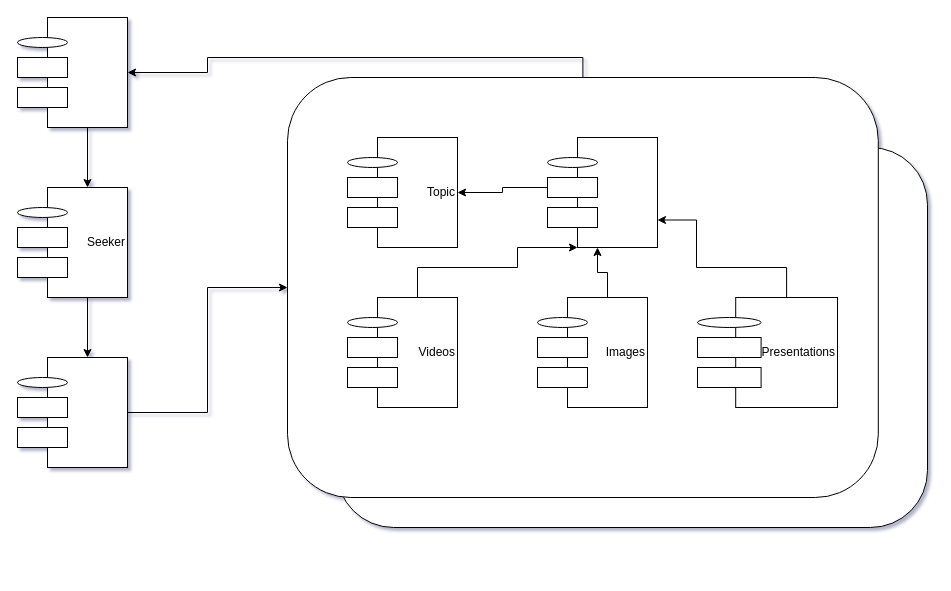
This 951x591 diagram has some shape labels left out. Here are the shapes that lost their labels. From the top down, the centre of each, then its label:
At point (87, 72): "App".
At point (617, 192): "Annexes".
At point (87, 412): "Topic list".
